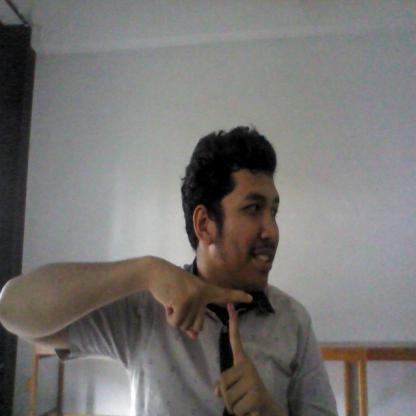T: (154, 257, 262, 415)
